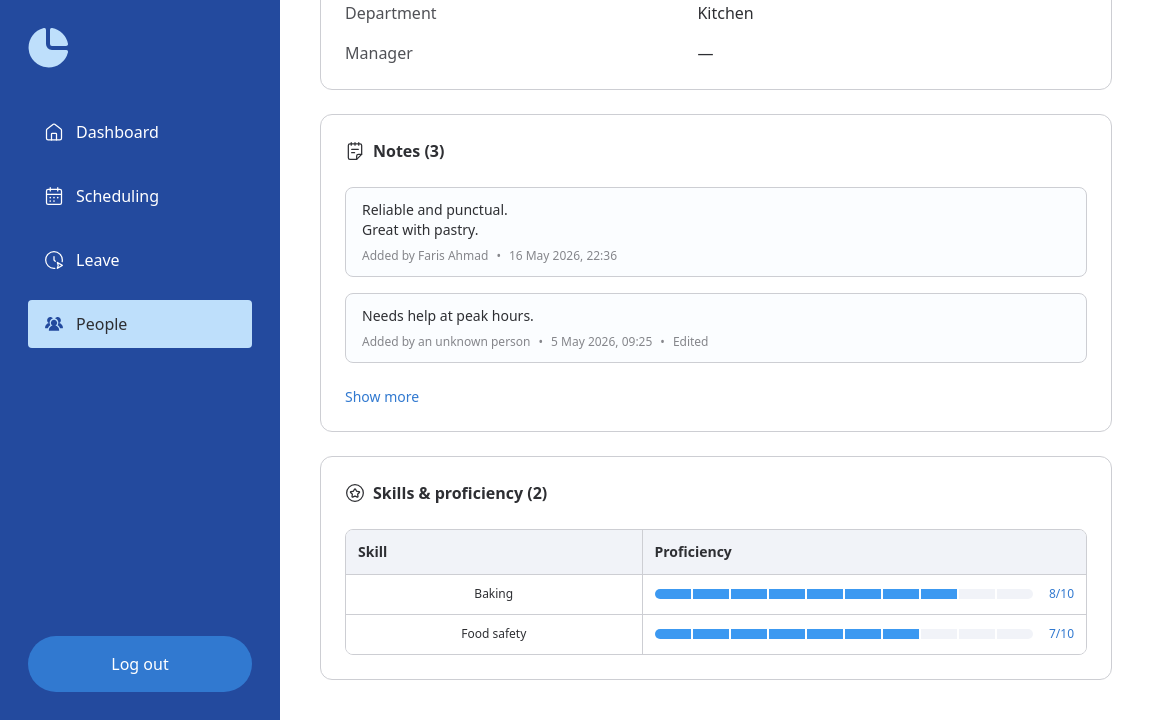
Scenario: A person's notes › loads the next page on request, until every note is shown
The image size is (1152, 720).
(page scrolled)
Expected: the text "Needs help at peak hours." is shown, [362,306,534,325]
Expected: the text "Third note." is not shown
Click the button "Show more".
click(382, 397)  # box [345,387,419,407]
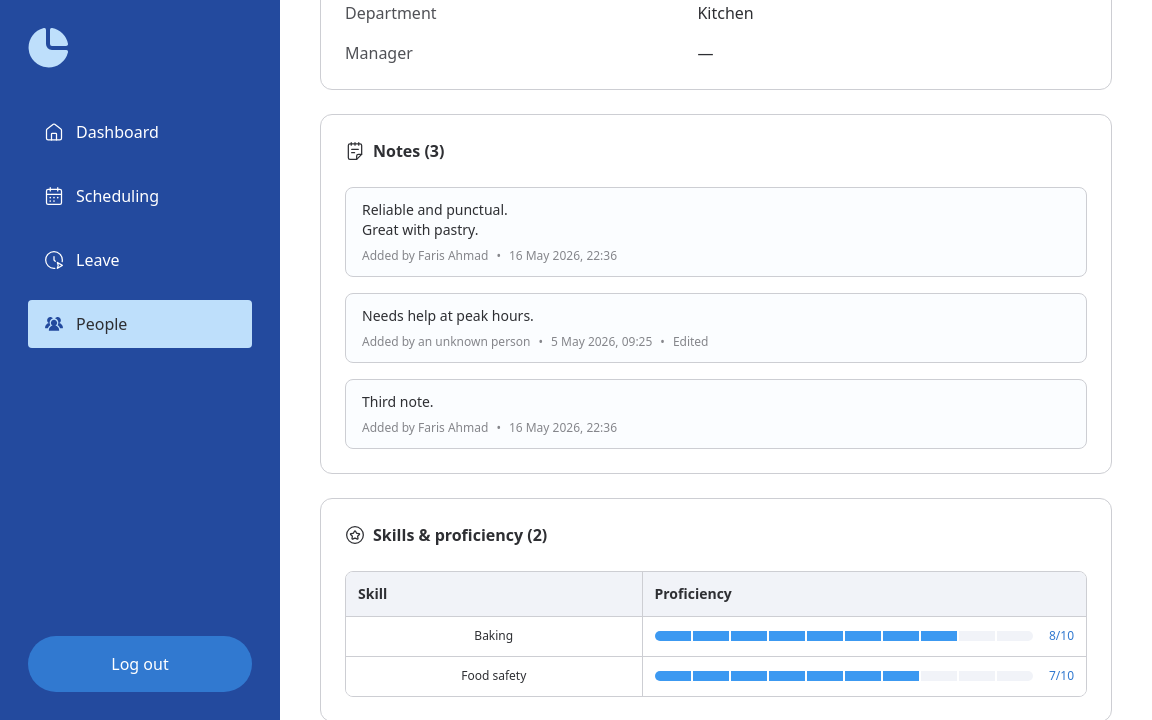
Expected: the text "Third note." is shown, [362,392,434,411]
Expected: the button "Show more" is gone
